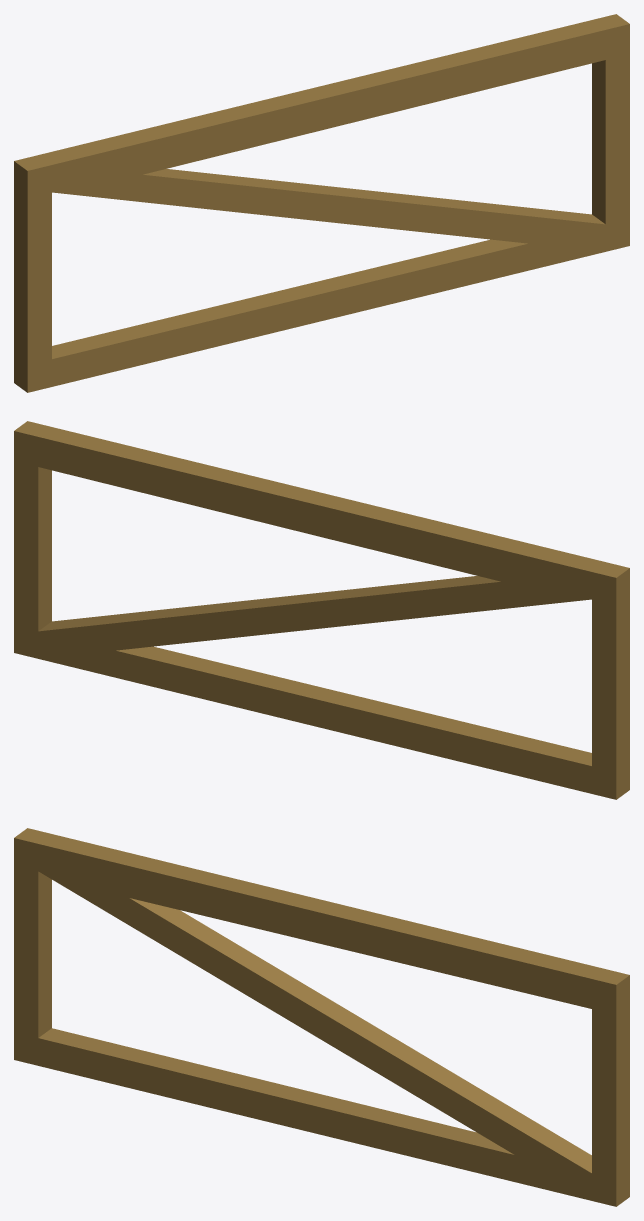
File: Gate.fbx
3 views of the same model, one above another, from view 1: azimuth 30°, elevation 25°; view 2: azimuth 150°, elevation 25°; view 3: azimuth 330°, elevation 25° (orthographic).
Parts seen in each view (by area): view 1: Cube.002; view 2: Cube.002; view 3: Cube.002.
Boxes of the visible parts, x1,y1,x2,y2 form: Cube.002: (14,14,629,392); Cube.002: (14,421,629,799); Cube.002: (14,828,629,1206).
Size of the model in its own units: 230 by 81.15 by 8.99.
